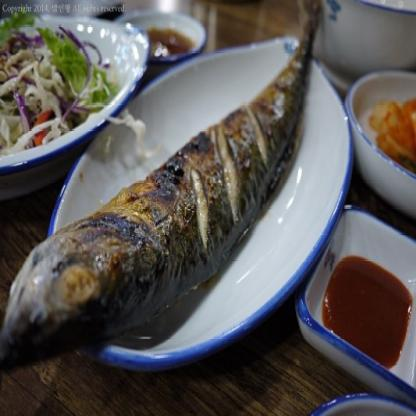Peixe: (0, 0, 329, 368)
